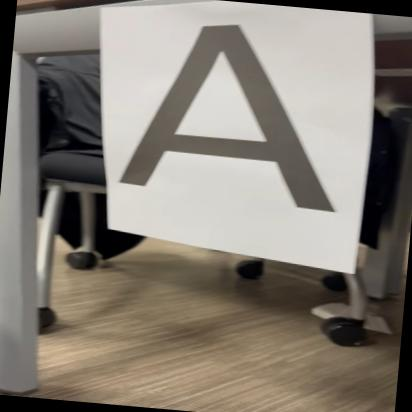seat: (100, 15, 354, 220)
